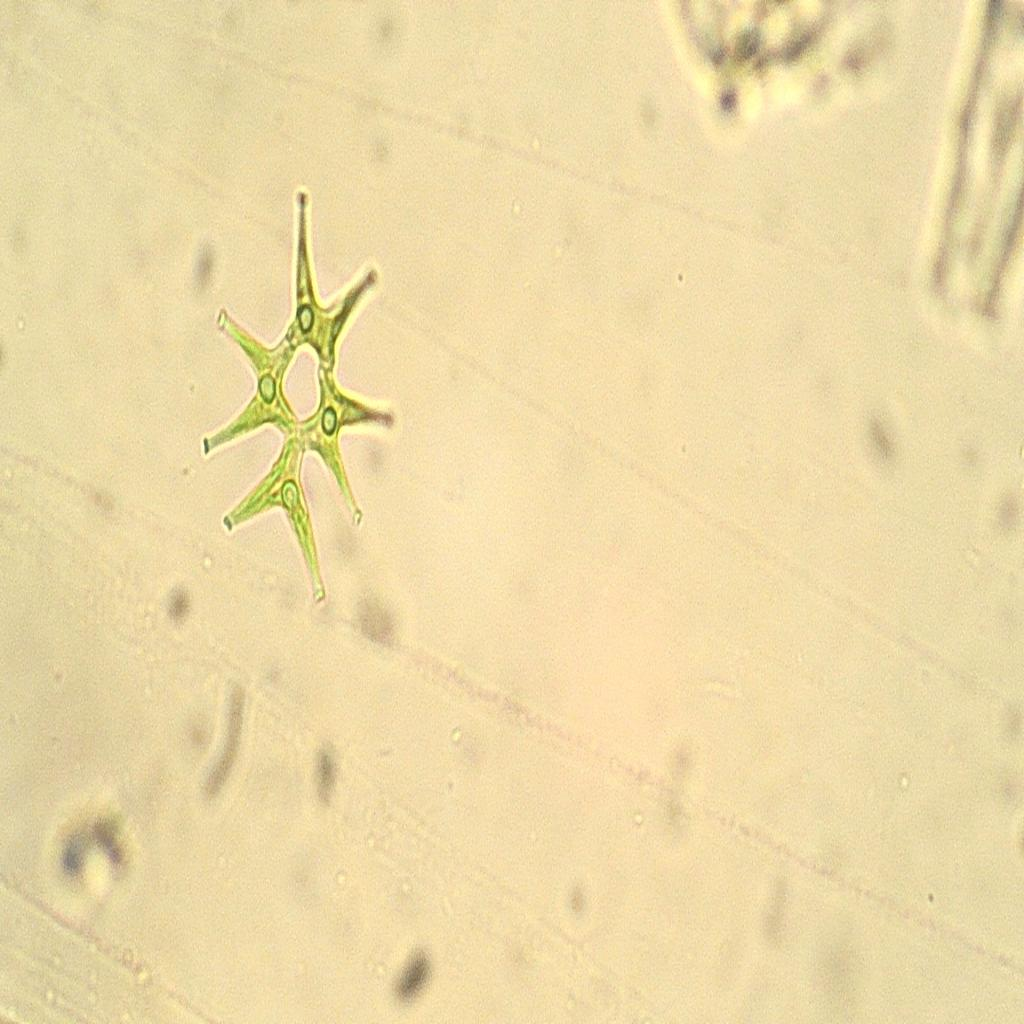Pediastrum_75FI: (193, 175, 402, 648)
